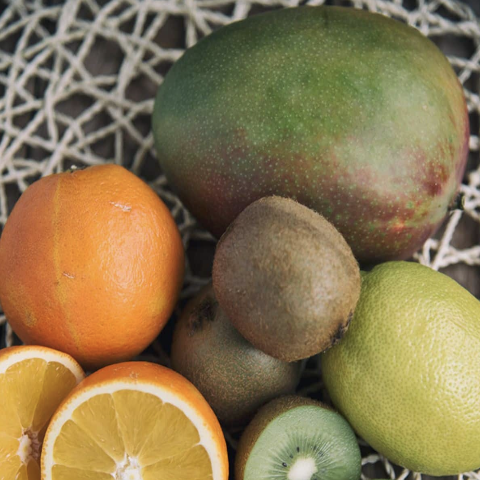kiwi: (117, 1, 480, 261), (213, 188, 359, 363)
orange: (0, 157, 190, 361)
